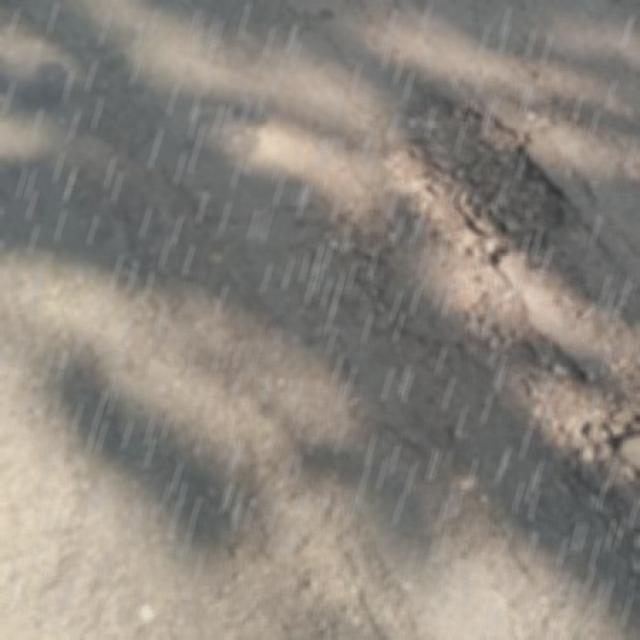road-pothole: (388, 66, 608, 276)
